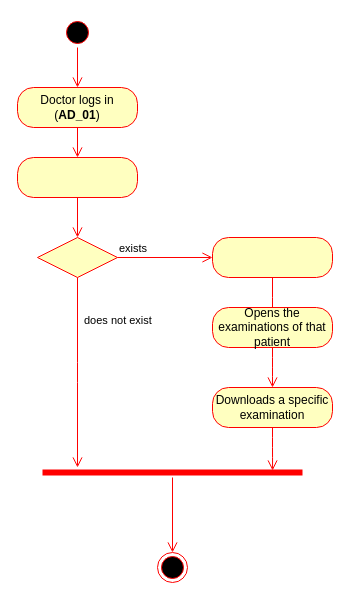
Image size: 350x600. Some labels were removed from this diagram. Each missing label, with the centre of its shape:
"Opens the profile of that patient" belongs at (272,257).
"Searches a patient ( AD_06 )" belongs at (77,177).
